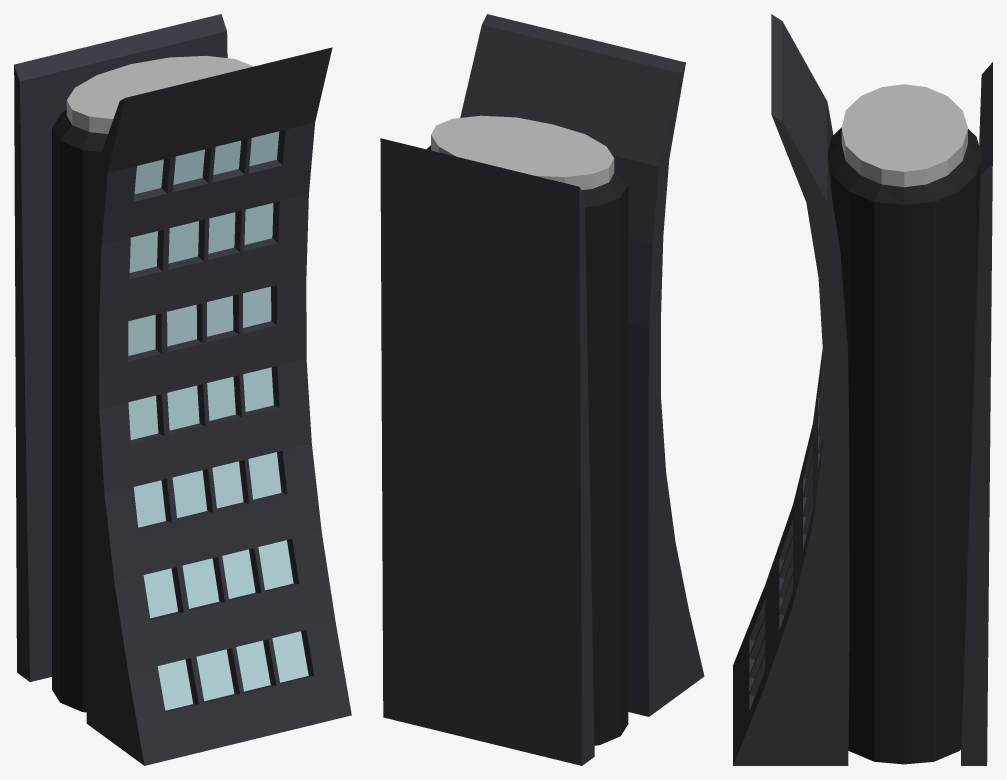
File: OhnoRin3.fbx
3 views of the same model, side by side, from view 1: azimuth 30°, elevation 25°; view 2: azimuth 150°, elevation 25°; view 3: azimuth 270°, elevation 25° (orthographic). The views are drawn at different scales.
Visible parts, largest first — view 1: Bill3; view 2: Bill3; view 3: Bill3.
Boxes of the visible parts, box(x1,y1,x2,y2) form: Bill3: box(14, 14, 351, 765); Bill3: box(380, 14, 704, 765); Bill3: box(733, 14, 992, 765).
Size of the model in its own units: 235 by 709 by 256.
